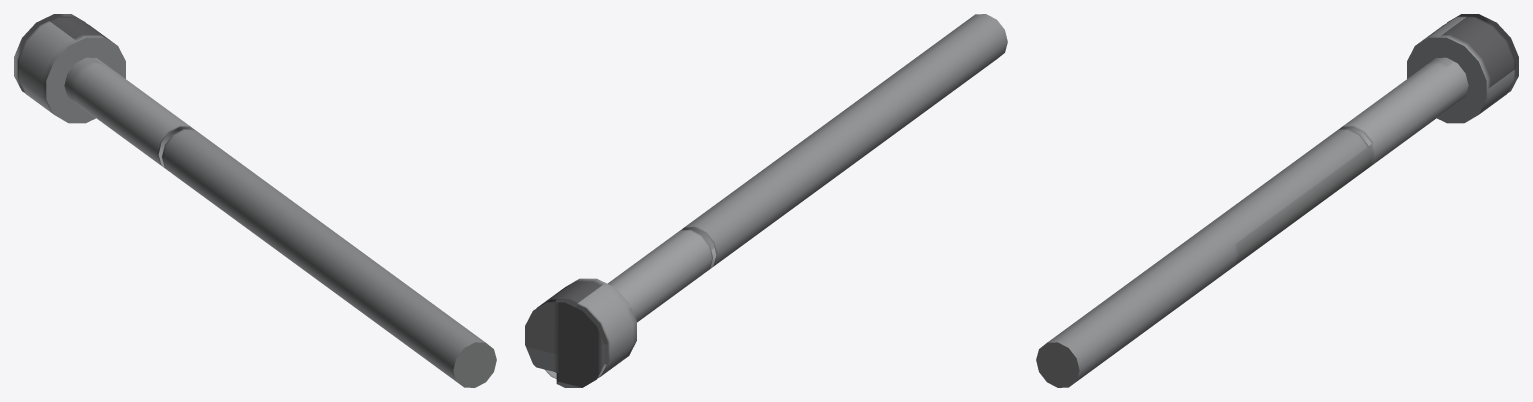
3 views of the same model, side by side, from view 1: azimuth 30°, elevation 25°; view 2: azimuth 150°, elevation 25°; view 3: azimuth 330°, elevation 25° (orthographic).
Size of the model in its own units: 0.2825 by 0.2898 by 2.59.
